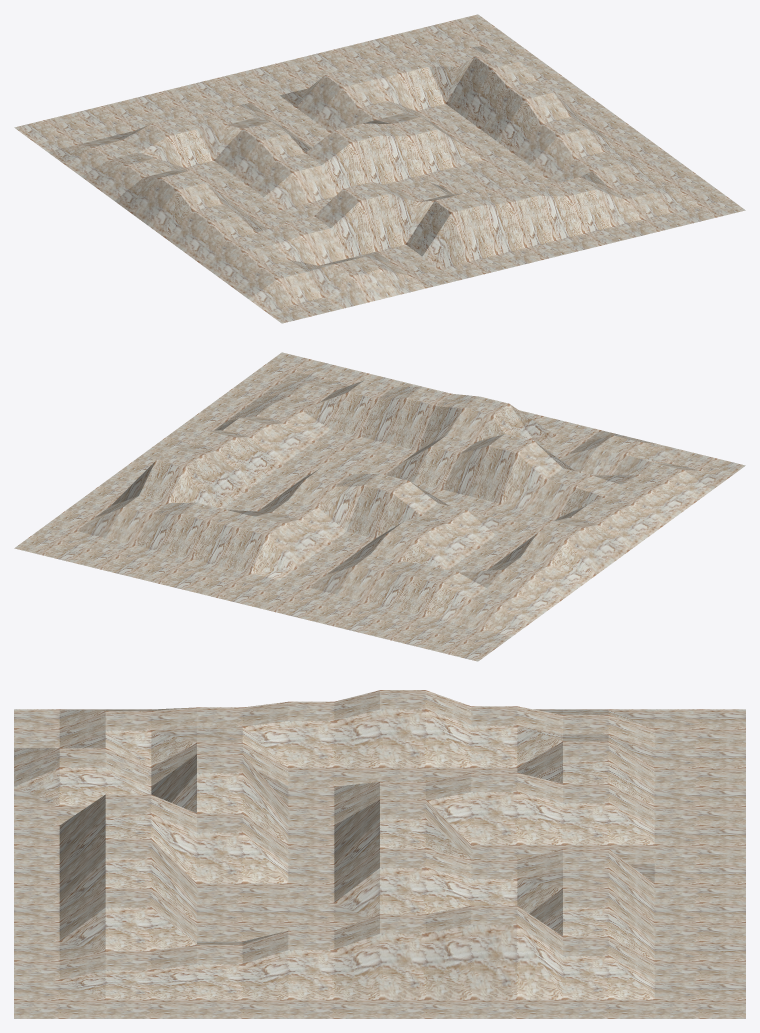
The model's file is courser7a.obj.
3 renders of one model, top to bottom at view 1: azimuth 30°, elevation 25°; view 2: azimuth 150°, elevation 25°; view 3: azimuth 270°, elevation 25°, orthographic. The views are drawn at different scales.
Visible parts, largest first — view 1: Plane; view 2: Plane; view 3: Plane.
Part boxes in pixels (x1,y1,x2,y2): Plane: (14, 14, 745, 323); Plane: (14, 352, 745, 661); Plane: (14, 690, 745, 1018).
Size of the model in its own units: 40 by 3.32 by 40.
Materials: 1 (1 with a texture image).
